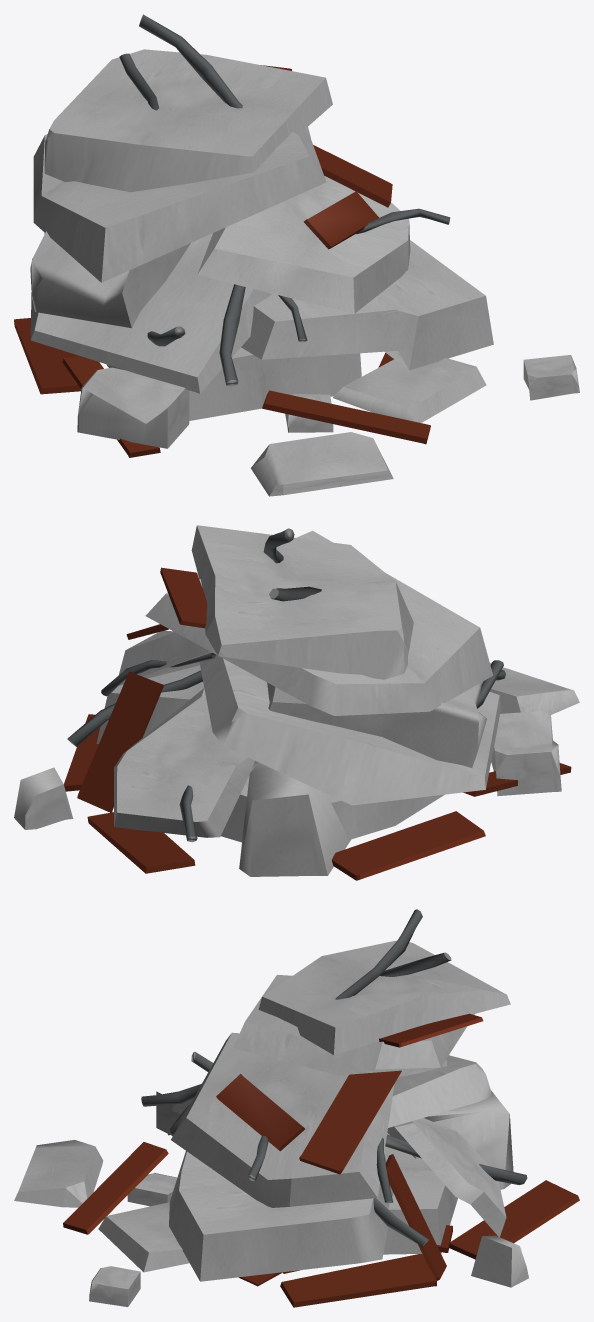
The model's file is Rubble_03.fbx.
The picture shows the model from 3 angles, top to bottom: view 1: azimuth 30°, elevation 25°; view 2: azimuth 150°, elevation 25°; view 3: azimuth 270°, elevation 25°; orthographic projection. The views are drawn at different scales.
Parts seen in each view (by area): view 1: Rubble_03A; view 2: Rubble_03A; view 3: Rubble_03A.
Part boxes in pixels (left/top/right/bottom): Rubble_03A: left=14, top=14, right=579, bottom=496; Rubble_03A: left=14, top=525, right=579, bottom=880; Rubble_03A: left=14, top=909, right=579, bottom=1307.
Bounding box in the file's own units: 5.04 × 3.46 × 6.2.
